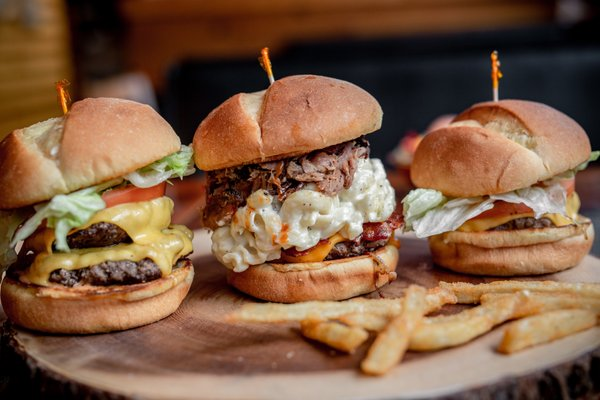soup: (0, 85, 199, 335), (192, 73, 404, 304), (400, 98, 595, 276)
